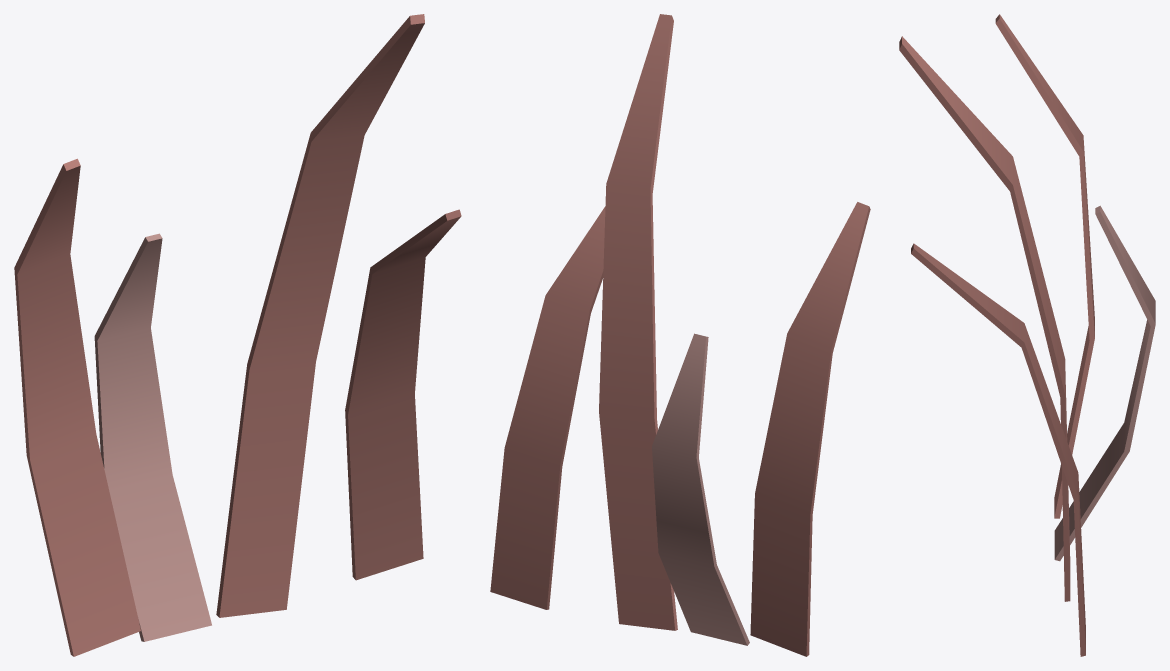
The model's file is E_RedGrass.fbx.
3 views of the same model, side by side, from view 1: azimuth 30°, elevation 25°; view 2: azimuth 150°, elevation 25°; view 3: azimuth 270°, elevation 25° (orthographic). The views are drawn at different scales.
Visible parts, largest first — view 1: pCube1, pCube4, pCube3, pCube2; view 2: pCube1, pCube4, pCube2, pCube3; view 3: pCube1, pCube2, pCube3, pCube4.
Boxes of the visible parts, x1,y1,x2,y2 form: pCube1: (216, 14, 424, 617); pCube4: (14, 158, 140, 656); pCube3: (94, 233, 211, 641); pCube2: (345, 209, 461, 580); pCube1: (599, 14, 677, 630); pCube4: (750, 202, 870, 656); pCube2: (490, 206, 605, 609); pCube3: (652, 333, 749, 645); pCube1: (899, 36, 1070, 601); pCube2: (911, 243, 1085, 656); pCube3: (1054, 205, 1155, 561); pCube4: (995, 14, 1094, 518).
Bounding box in the file's own units: 15.59 × 23.88 × 9.58.
